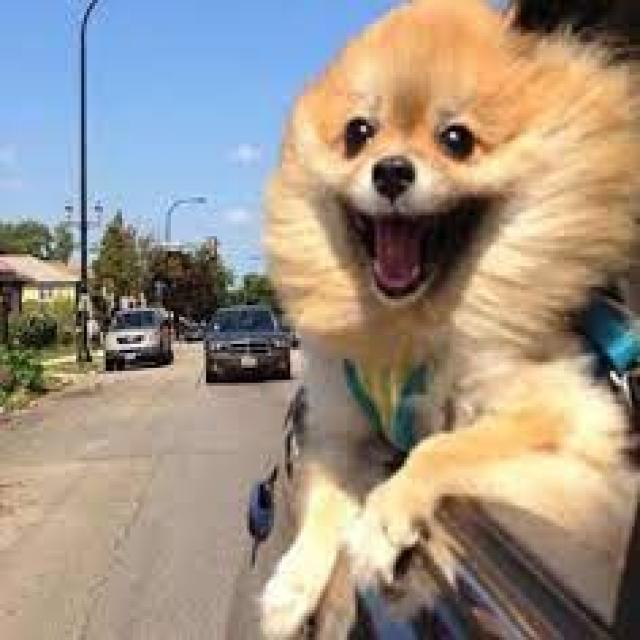dog: (247, 3, 629, 640)
